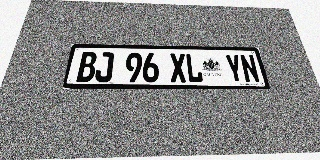6: (142, 53, 159, 82)
9: (125, 52, 142, 82)
B: (76, 52, 98, 82)
J: (94, 52, 114, 82)
L: (185, 53, 204, 82)
N: (239, 54, 261, 83)
X: (169, 53, 187, 82)
Y: (224, 54, 245, 83)
